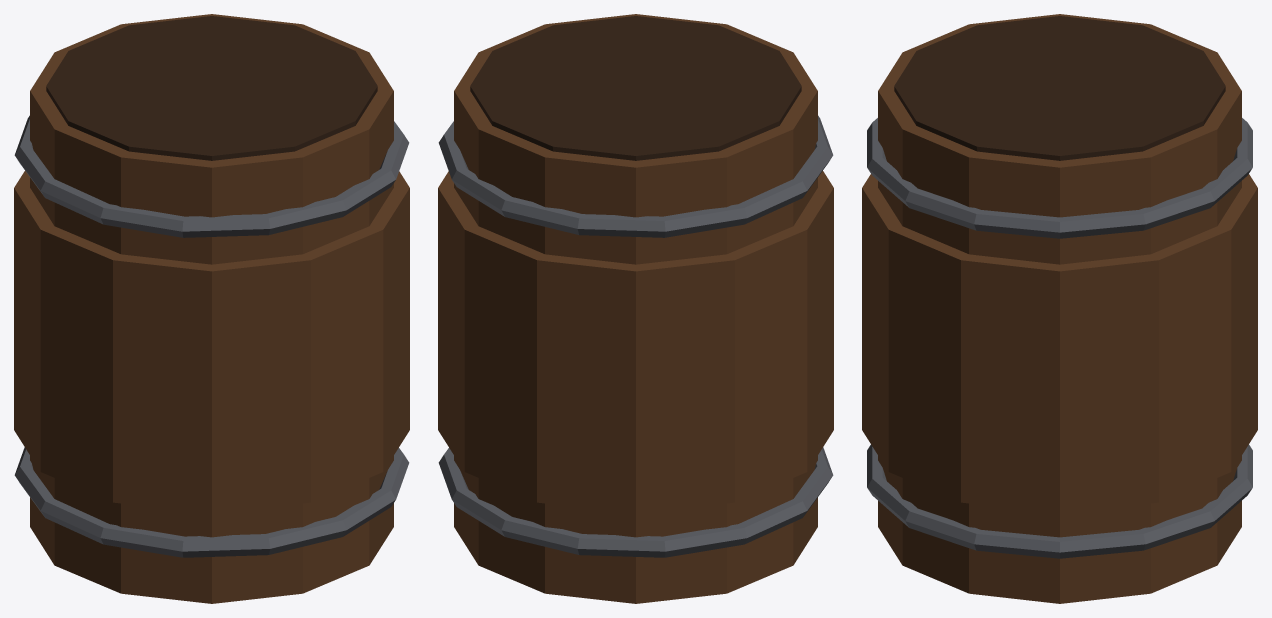
File: barrel.glb
The picture shows the model from 3 angles, left to right: view 1: azimuth 30°, elevation 25°; view 2: azimuth 150°, elevation 25°; view 3: azimuth 270°, elevation 25°; orthographic projection.
Parts seen in each view (by area): view 1: barrel; view 2: barrel; view 3: barrel.
Part boxes in pixels (bbox=[...]): barrel: bbox=[14, 14, 409, 603]; barrel: bbox=[438, 14, 833, 603]; barrel: bbox=[862, 14, 1257, 603].
Bounding box in the file's own units: 0.74 × 0.91 × 0.74.
